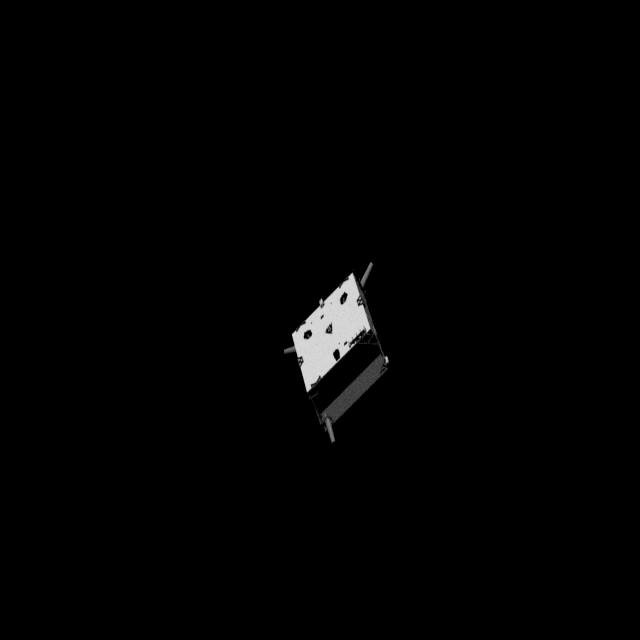medium_debris: (280, 252, 400, 436)
